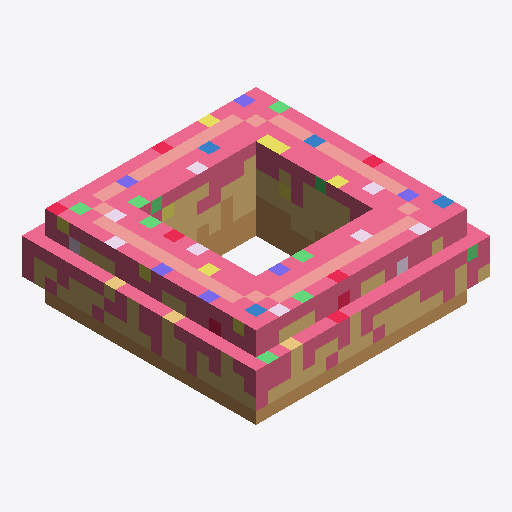
A Minecraft block model of 8 cuboids, rendered isometrically (azimuth 45°, elevation 35.3°) with the resource pack's own textures.
Visible parts, largest first — element 8, element 6, element 5, element 1, element 4, element 7, element 2.
Part boxes in pixels (x1,y1,x2,y2): element 8: (45,182,302,424); element 6: (210,87,466,329); element 5: (92,114,255,255); element 1: (22,229,267,410); element 4: (256,236,477,403); element 7: (256,209,419,397); element 2: (467,223,489,282).
Size of the model in its own units: 20 by 7 by 20.